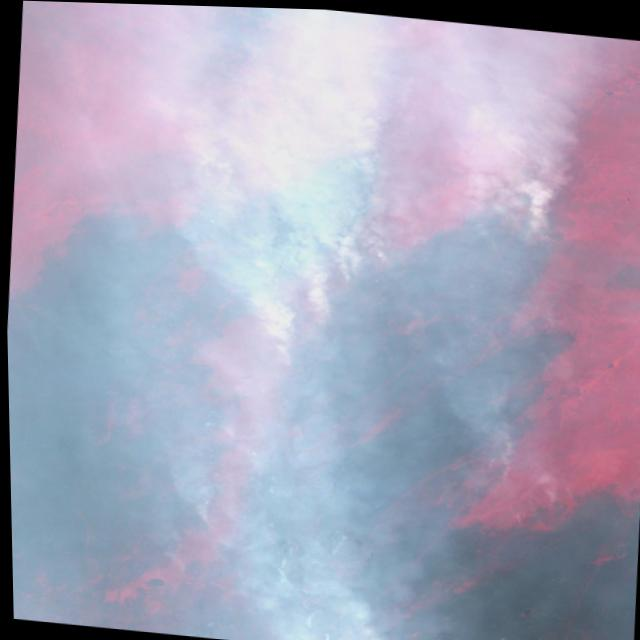fire: (252, 221, 359, 378), (471, 180, 566, 248)
